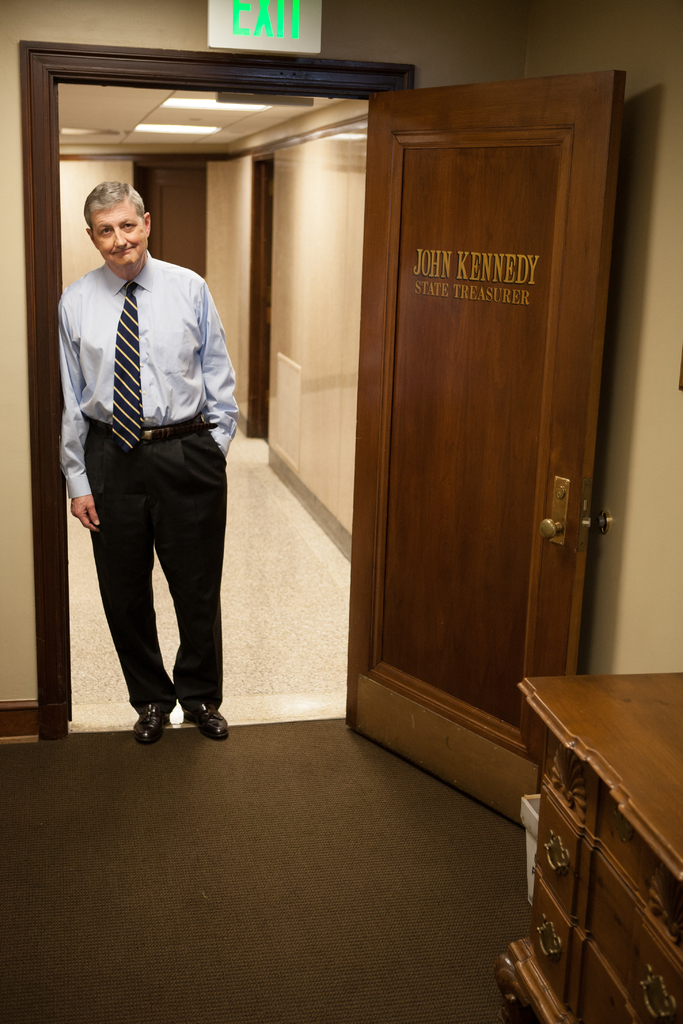door: (369, 100, 578, 747)
handle: (545, 826, 571, 887), (538, 914, 563, 973), (645, 970, 671, 1024), (542, 505, 561, 563)
